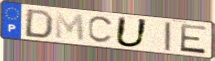C: (87, 15, 116, 45)
D: (23, 8, 56, 40)
E: (179, 23, 208, 55)
I: (163, 21, 172, 52)
M: (54, 11, 87, 43)
U: (114, 16, 150, 49)
